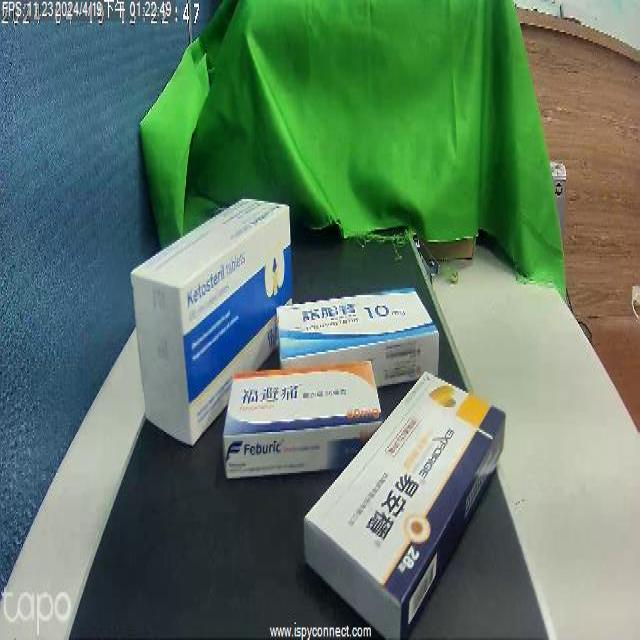box: (135, 191, 287, 444), (320, 398, 495, 606), (226, 342, 374, 468), (278, 288, 436, 387)
